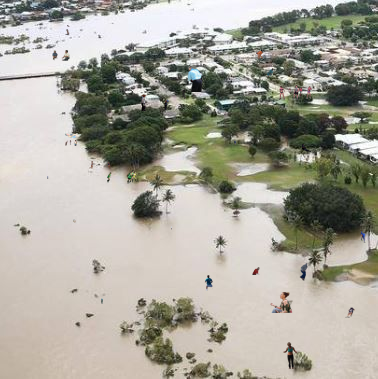Human: (279, 85, 312, 100), (187, 66, 206, 92), (140, 94, 169, 111), (270, 292, 293, 313), (107, 170, 141, 184), (283, 342, 298, 369), (102, 142, 129, 153), (299, 257, 310, 281), (198, 275, 213, 291), (262, 65, 275, 81), (52, 50, 70, 61), (89, 161, 111, 169), (345, 307, 355, 318), (65, 133, 82, 138), (302, 144, 312, 152), (65, 140, 78, 146), (360, 230, 366, 243), (252, 267, 260, 275), (180, 89, 186, 99), (256, 51, 263, 59), (184, 54, 191, 58), (66, 29, 69, 35), (47, 176, 51, 179), (73, 219, 76, 223), (101, 298, 103, 304), (234, 140, 236, 145), (118, 6, 121, 9), (67, 25, 70, 27), (171, 226, 172, 230)
